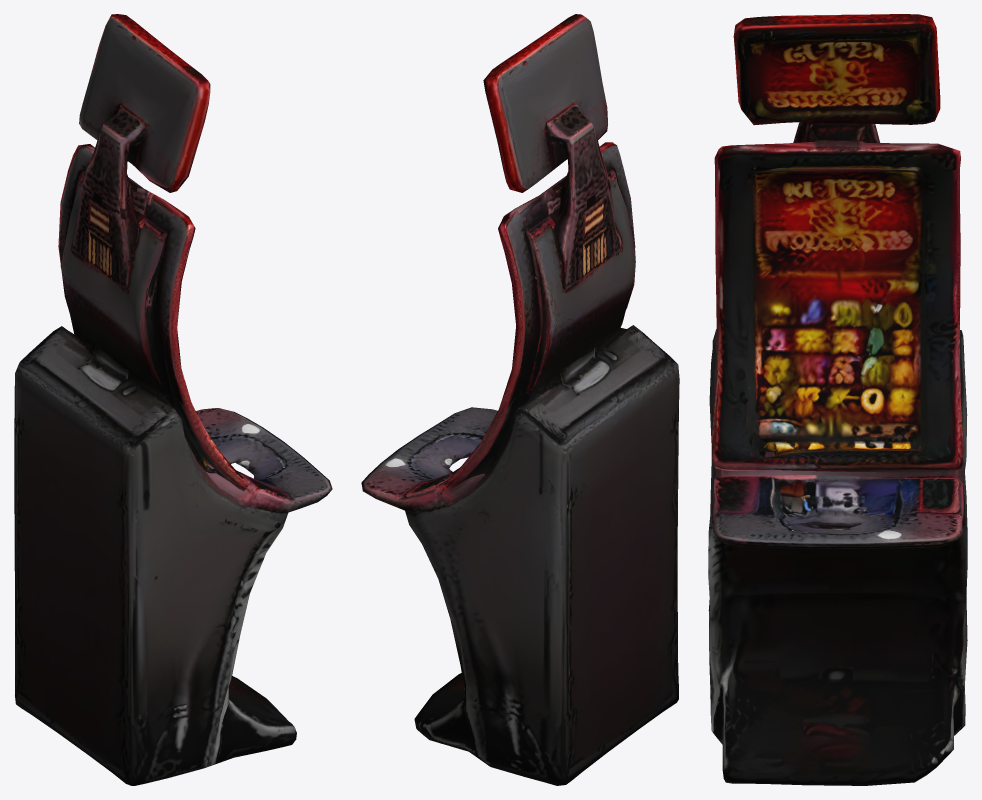
File: slot+machine+3d+model.fbx
The picture shows the model from 3 angles, left to right: view 1: azimuth 30°, elevation 25°; view 2: azimuth 150°, elevation 25°; view 3: azimuth 270°, elevation 25°; orthographic projection. The views are drawn at different scales.
Parts seen in each view (by area): view 1: tripo_node_6cf20dc4; view 2: tripo_node_6cf20dc4; view 3: tripo_node_6cf20dc4.
Boxes of the visible parts, bbox=[...] form: tripo_node_6cf20dc4: bbox=[14, 14, 332, 785]; tripo_node_6cf20dc4: bbox=[361, 14, 679, 785]; tripo_node_6cf20dc4: bbox=[708, 14, 967, 785].
Size of the model in its own units: 0.3355 by 0.9996 by 0.3229.
1 material, 1 textured.
